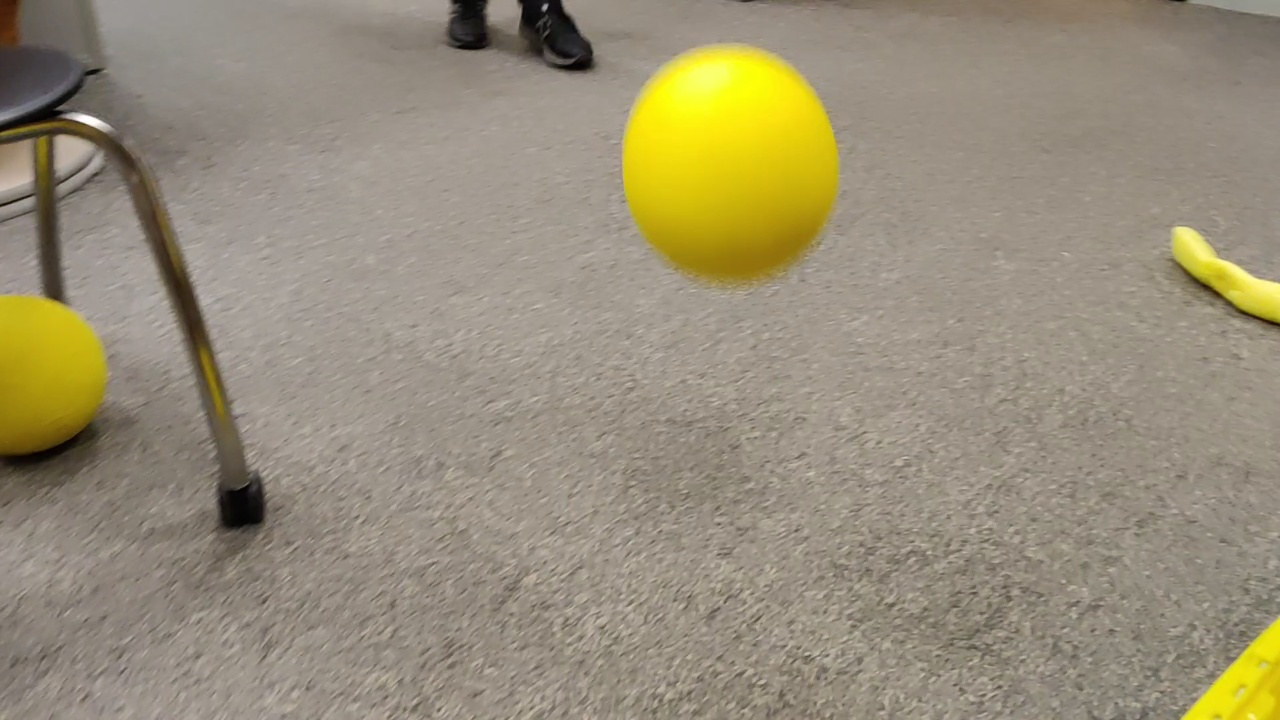Ball: (620, 43, 839, 286)
